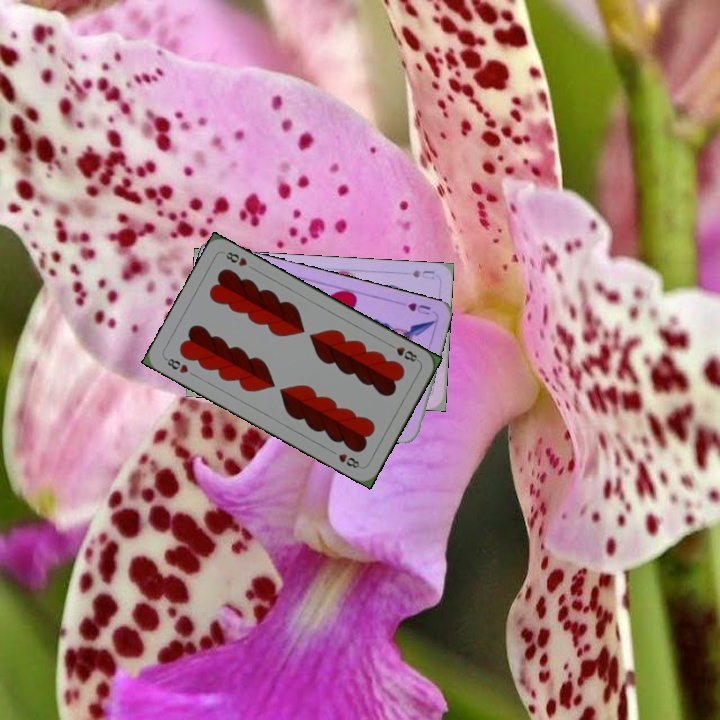H8: (384, 339, 422, 364), (161, 354, 191, 376)
HU: (404, 299, 433, 318)
SU: (409, 266, 437, 282)
